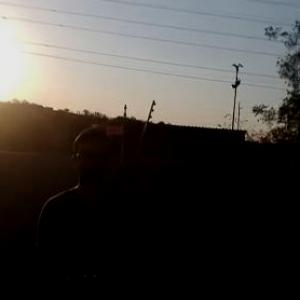follow: (25, 121, 148, 299)
